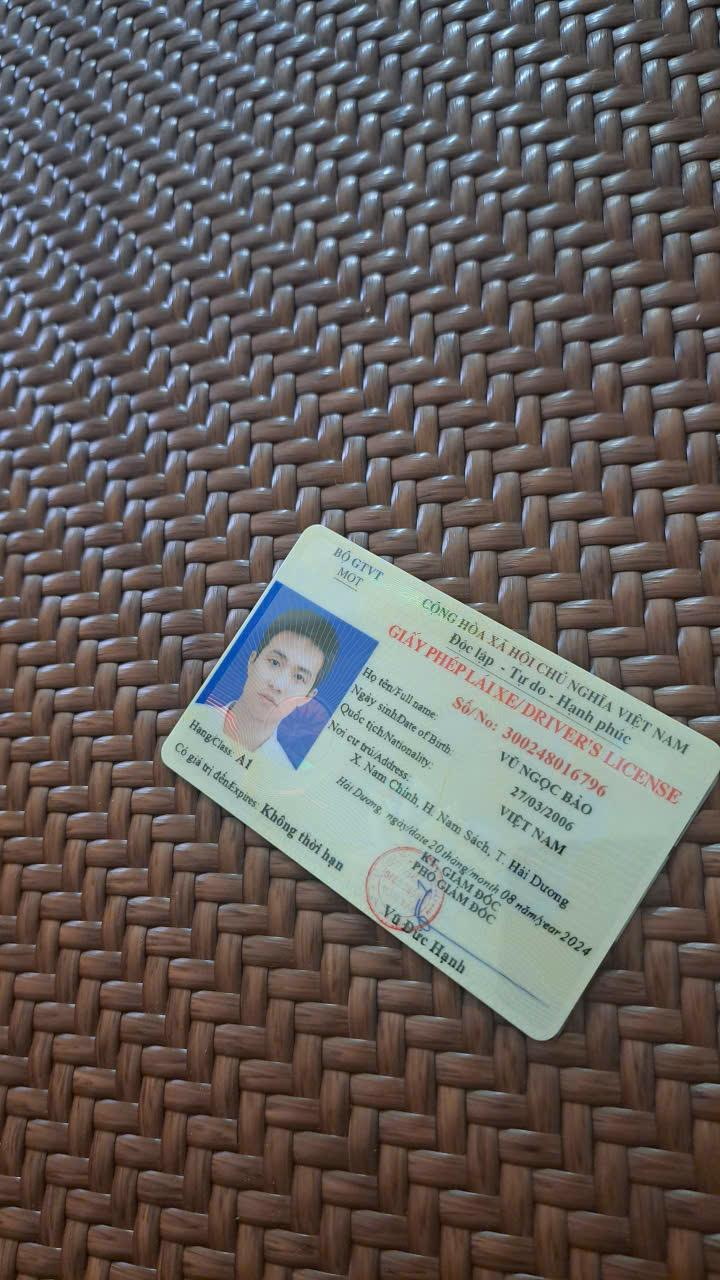gplx: (144, 511, 719, 1047)
